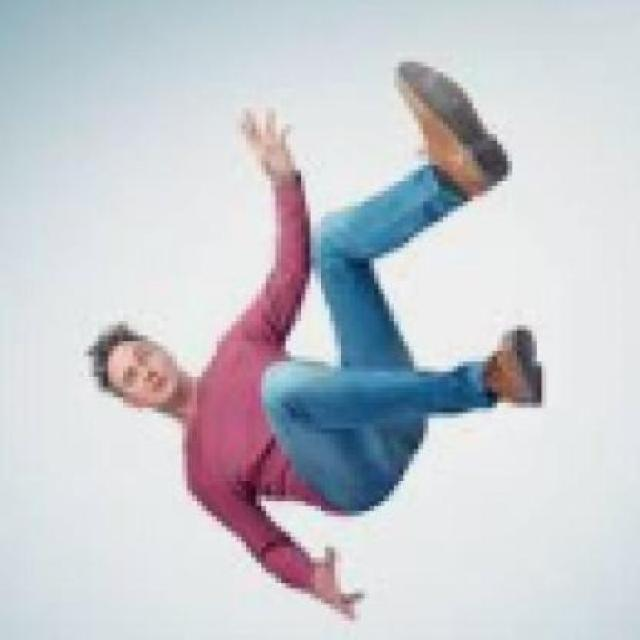fall: (84, 51, 548, 617)
